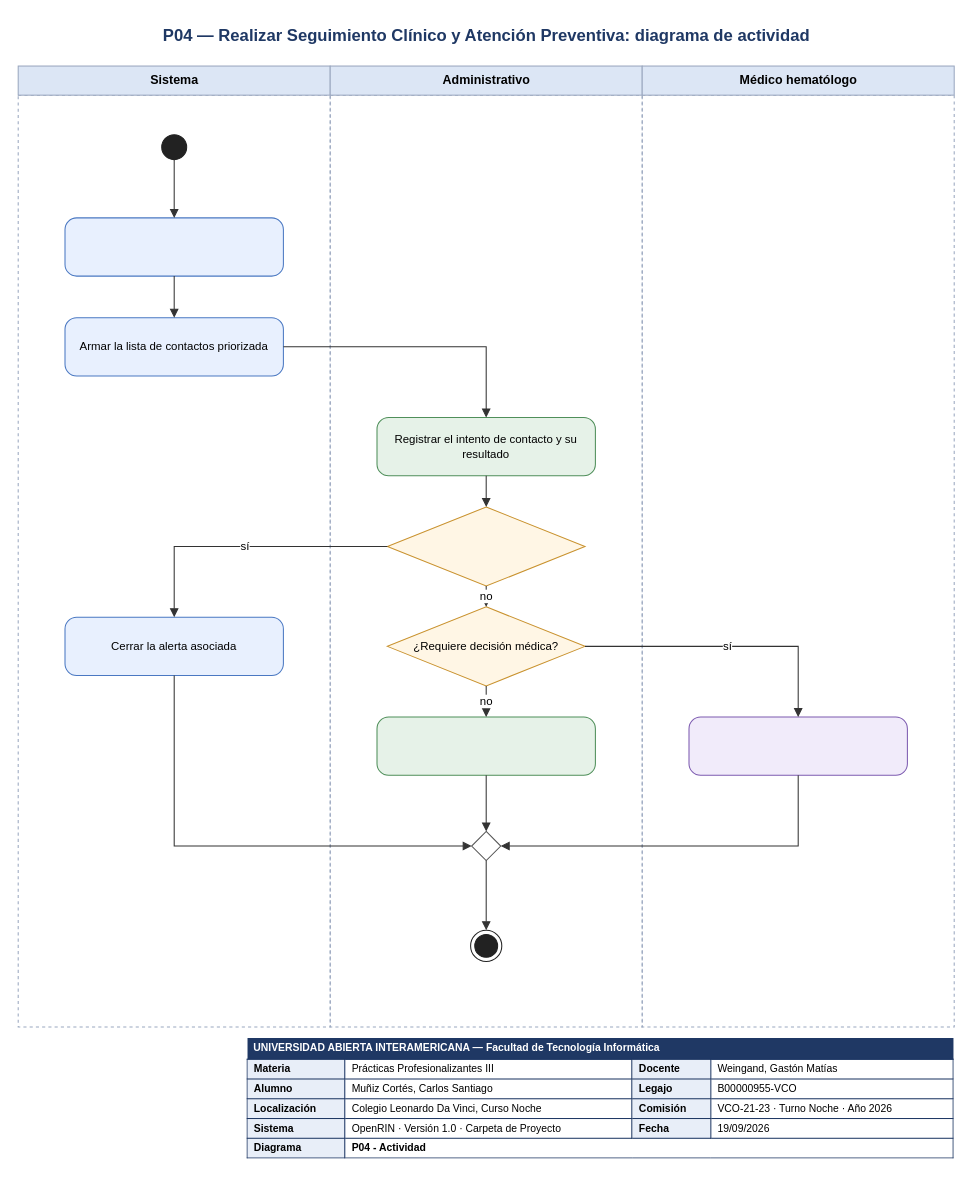
The diagram is 972 pixels wide and 1197 high, and some of its shapes have lost their labels. Each missing label, with the box of its shape:
Detectar controles vencidos y alertas activas: (64, 217, 283, 276)
Registrar la decisión clínica (adelantar el control o derivar): (688, 716, 907, 775)
Reintentar en el próximo ciclo (al 3.º intento fallido se escala al médico): (376, 716, 595, 775)
¿Contacto exitoso?: (386, 506, 585, 586)
